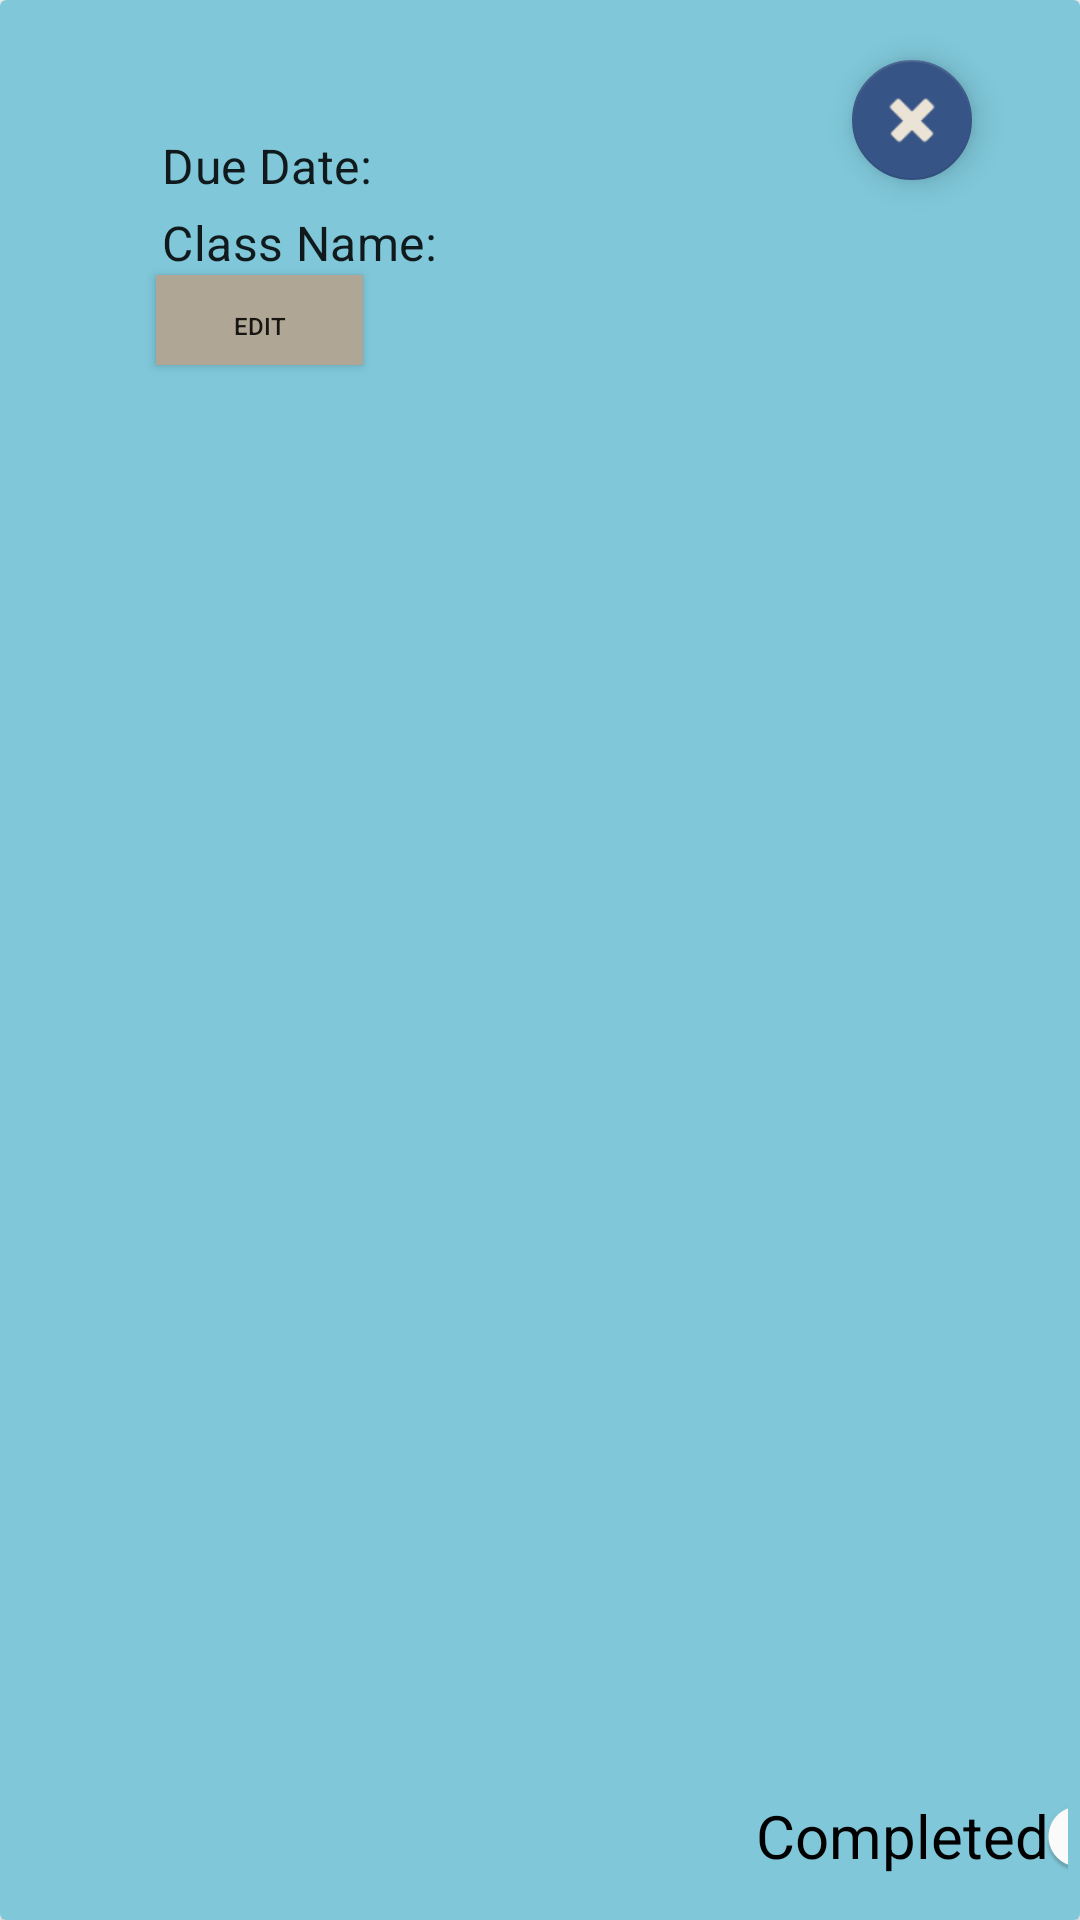

Icons on this 1080w x 1920h Android screen, each with its box as (x1=x1, y1=y1, x2=x2, y2=y2):
delete: (x1=852, y1=60, x2=972, y2=180)
